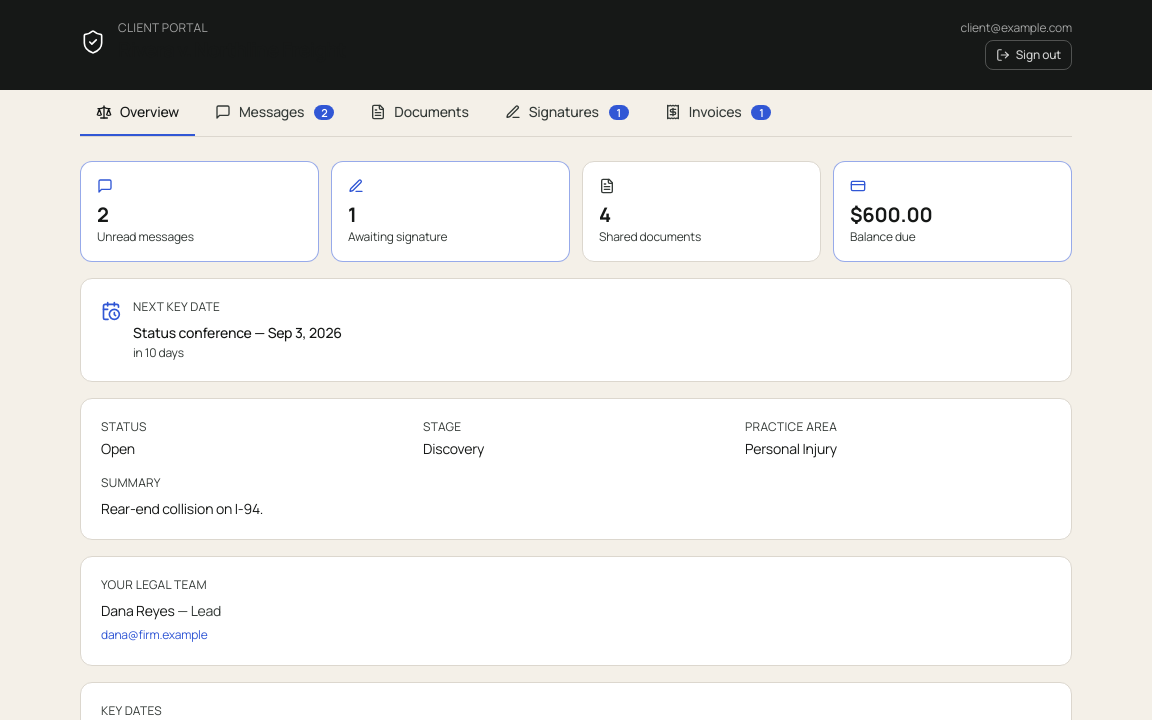
it: ClientPortalMatterPage › shows an invoice balance with an overdue marker and a pay link
This screenshot has width=1152, height=720.
Click the tab "Invoices 1".
click(718, 113)  # box x1=649 y1=90 x2=788 y2=136
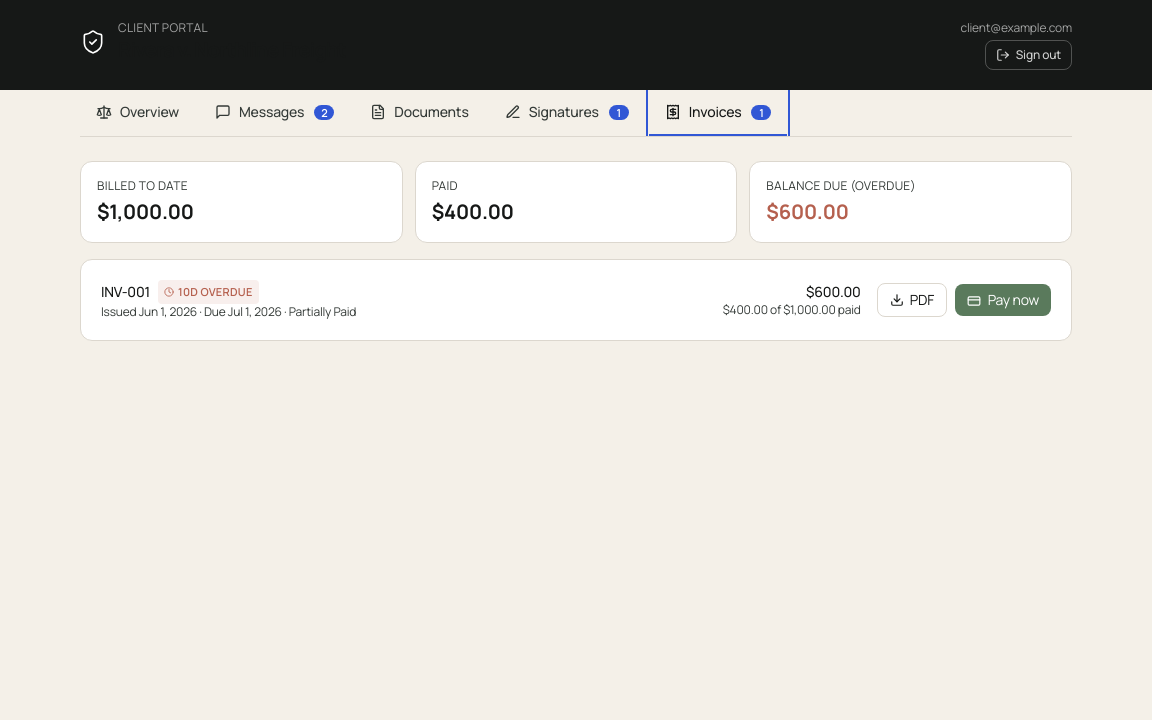
Check: the text "INV-001" is shown, box x1=101 y1=282 x2=150 y2=301
Check: the text "10d overdue" is shown, box x1=158 y1=280 x2=259 y2=304
Check: the text "$400.00 of $1,000.00 paid" is shown, box x1=723 y1=302 x2=861 y2=318
